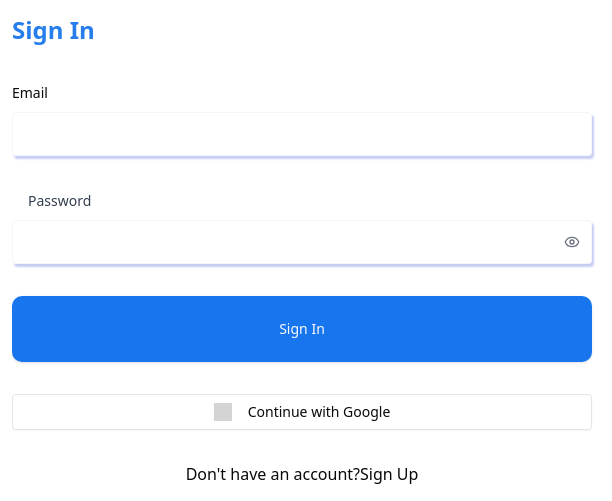
Test: AuthForm – UI Behavior › disables buttons while loading
Type "test@mail.com" into the field labelled "Email" at (302, 134), box [12, 112, 592, 156]
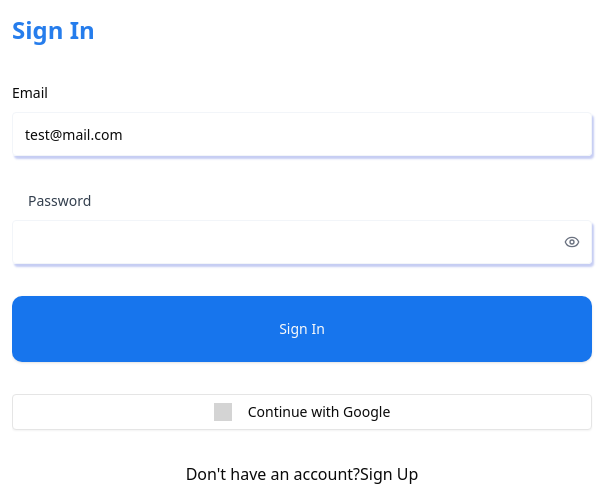
Type "Password1" into the password field named "password" at (302, 242), box [12, 220, 592, 264]
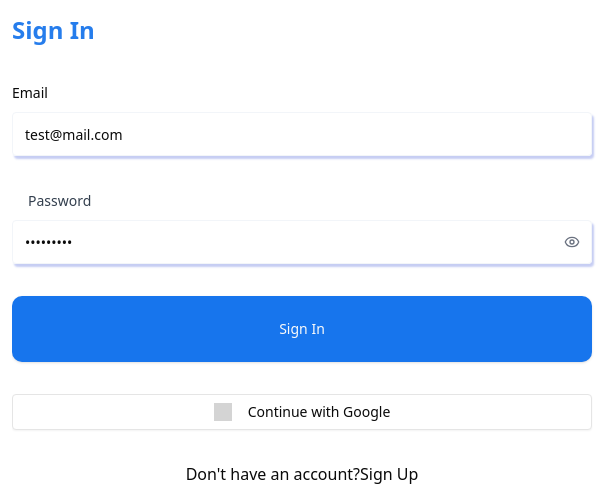
Click the button "Sign In" at (302, 329), box [12, 296, 592, 362]
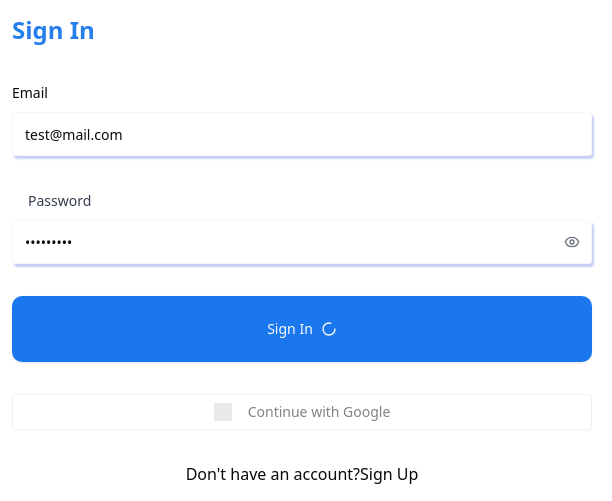
Expected: the button "Sign In" is disabled, [12, 296, 592, 362]
